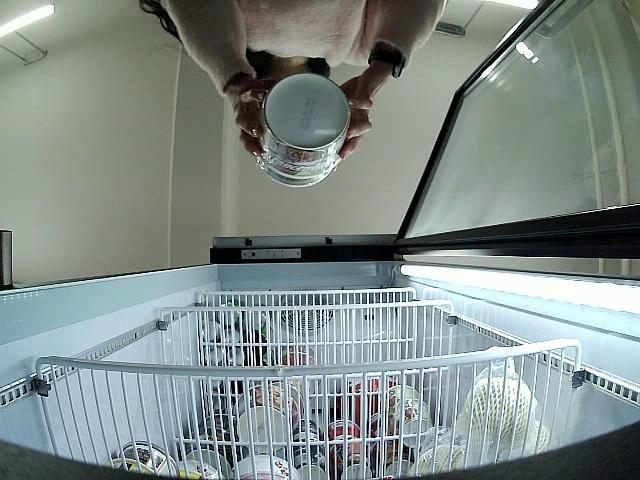03_chapagetti_L: (259, 73, 350, 178)
